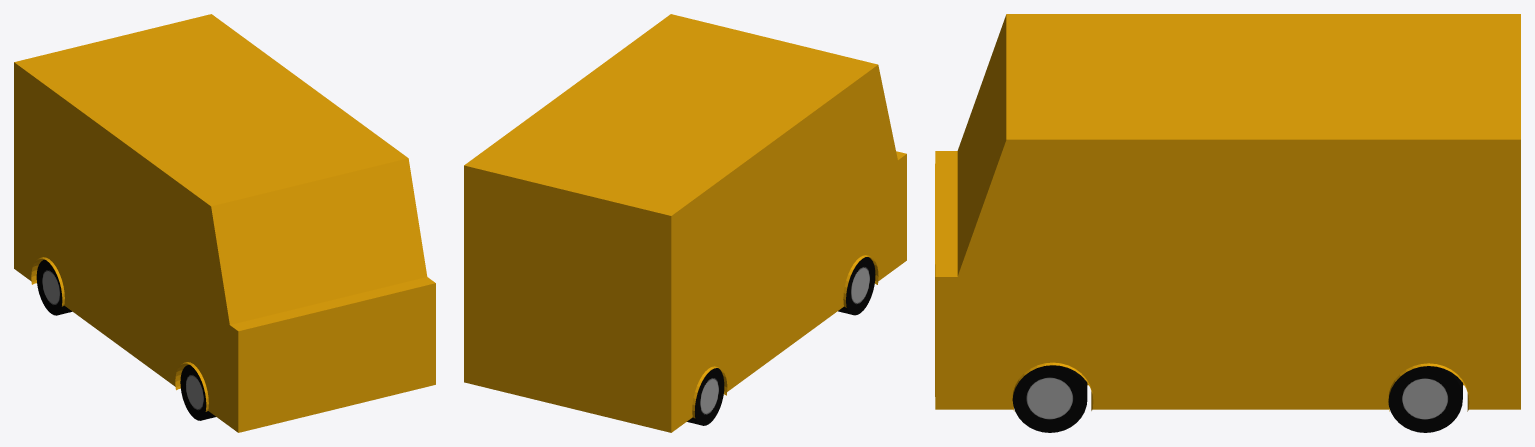
File: truck.glb
3 views of the same model, side by side, from view 1: azimuth 30°, elevation 25°; view 2: azimuth 150°, elevation 25°; view 3: azimuth 270°, elevation 25° (orthographic). The views are drawn at different scales.
Parts seen in each view (by area): view 1: Cube.001, Cylinder.002, Cylinder.004; view 2: Cube.001, Cylinder.002, Cylinder.004; view 3: Cube.001, Cylinder.002, Cylinder.004.
Boxes of the visible parts, <box> form: Cube.001: <box>14,14,435,432</box>; Cylinder.002: <box>180,364,215,420</box>; Cylinder.004: <box>36,259,72,315</box>; Cube.001: <box>464,14,906,432</box>; Cylinder.002: <box>838,257,875,315</box>; Cylinder.004: <box>687,368,724,425</box>; Cube.001: <box>935,14,1520,411</box>; Cylinder.002: <box>1012,365,1087,432</box>; Cylinder.004: <box>1388,366,1462,432</box>.
Size of the model in its own units: 2.05 by 2.18 by 3.94.
2 materials, 1 textured.
